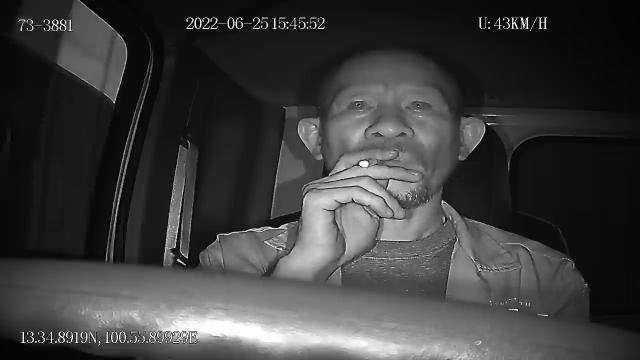SafeDriving: (338, 90, 381, 124), (398, 91, 438, 119)
Smoking: (358, 159, 382, 167)
